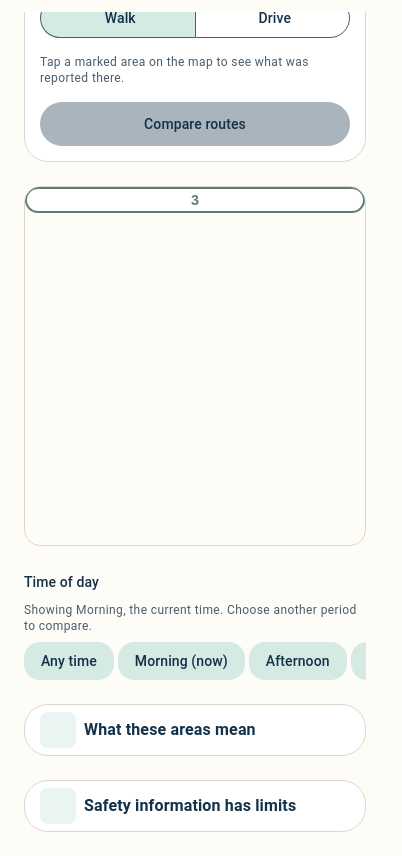
Test: foldable sections › opens the evidence section itself when an area has no reports
(page scrolled)
expect the heading "What these areas mean" is shown: met, box [84,720,256,739]
Click the button labelled "What these areas mean".
click(195, 730)  # box [24,704,366,756]
(page scrolled)
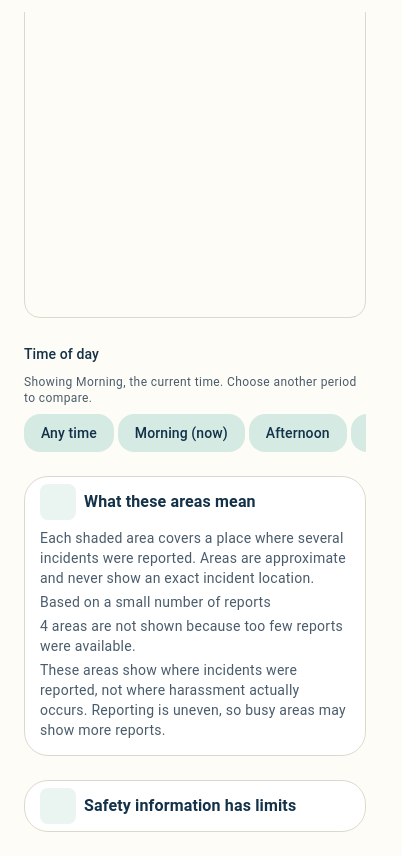
expect the text "not where harassment actually occurs" is shown: met, box [40,662,350,738]
